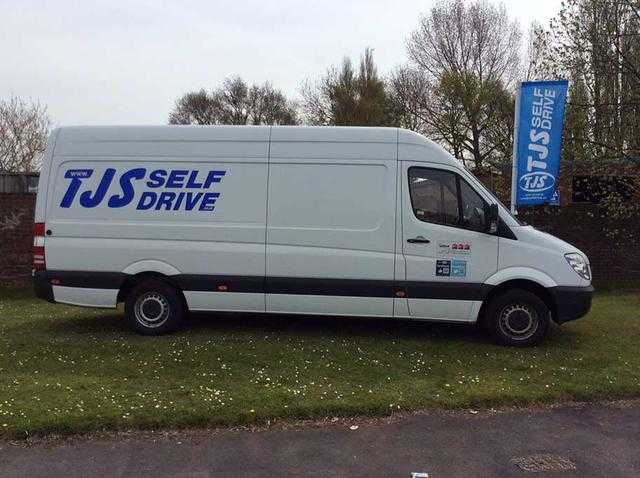van: (31, 121, 594, 347)
